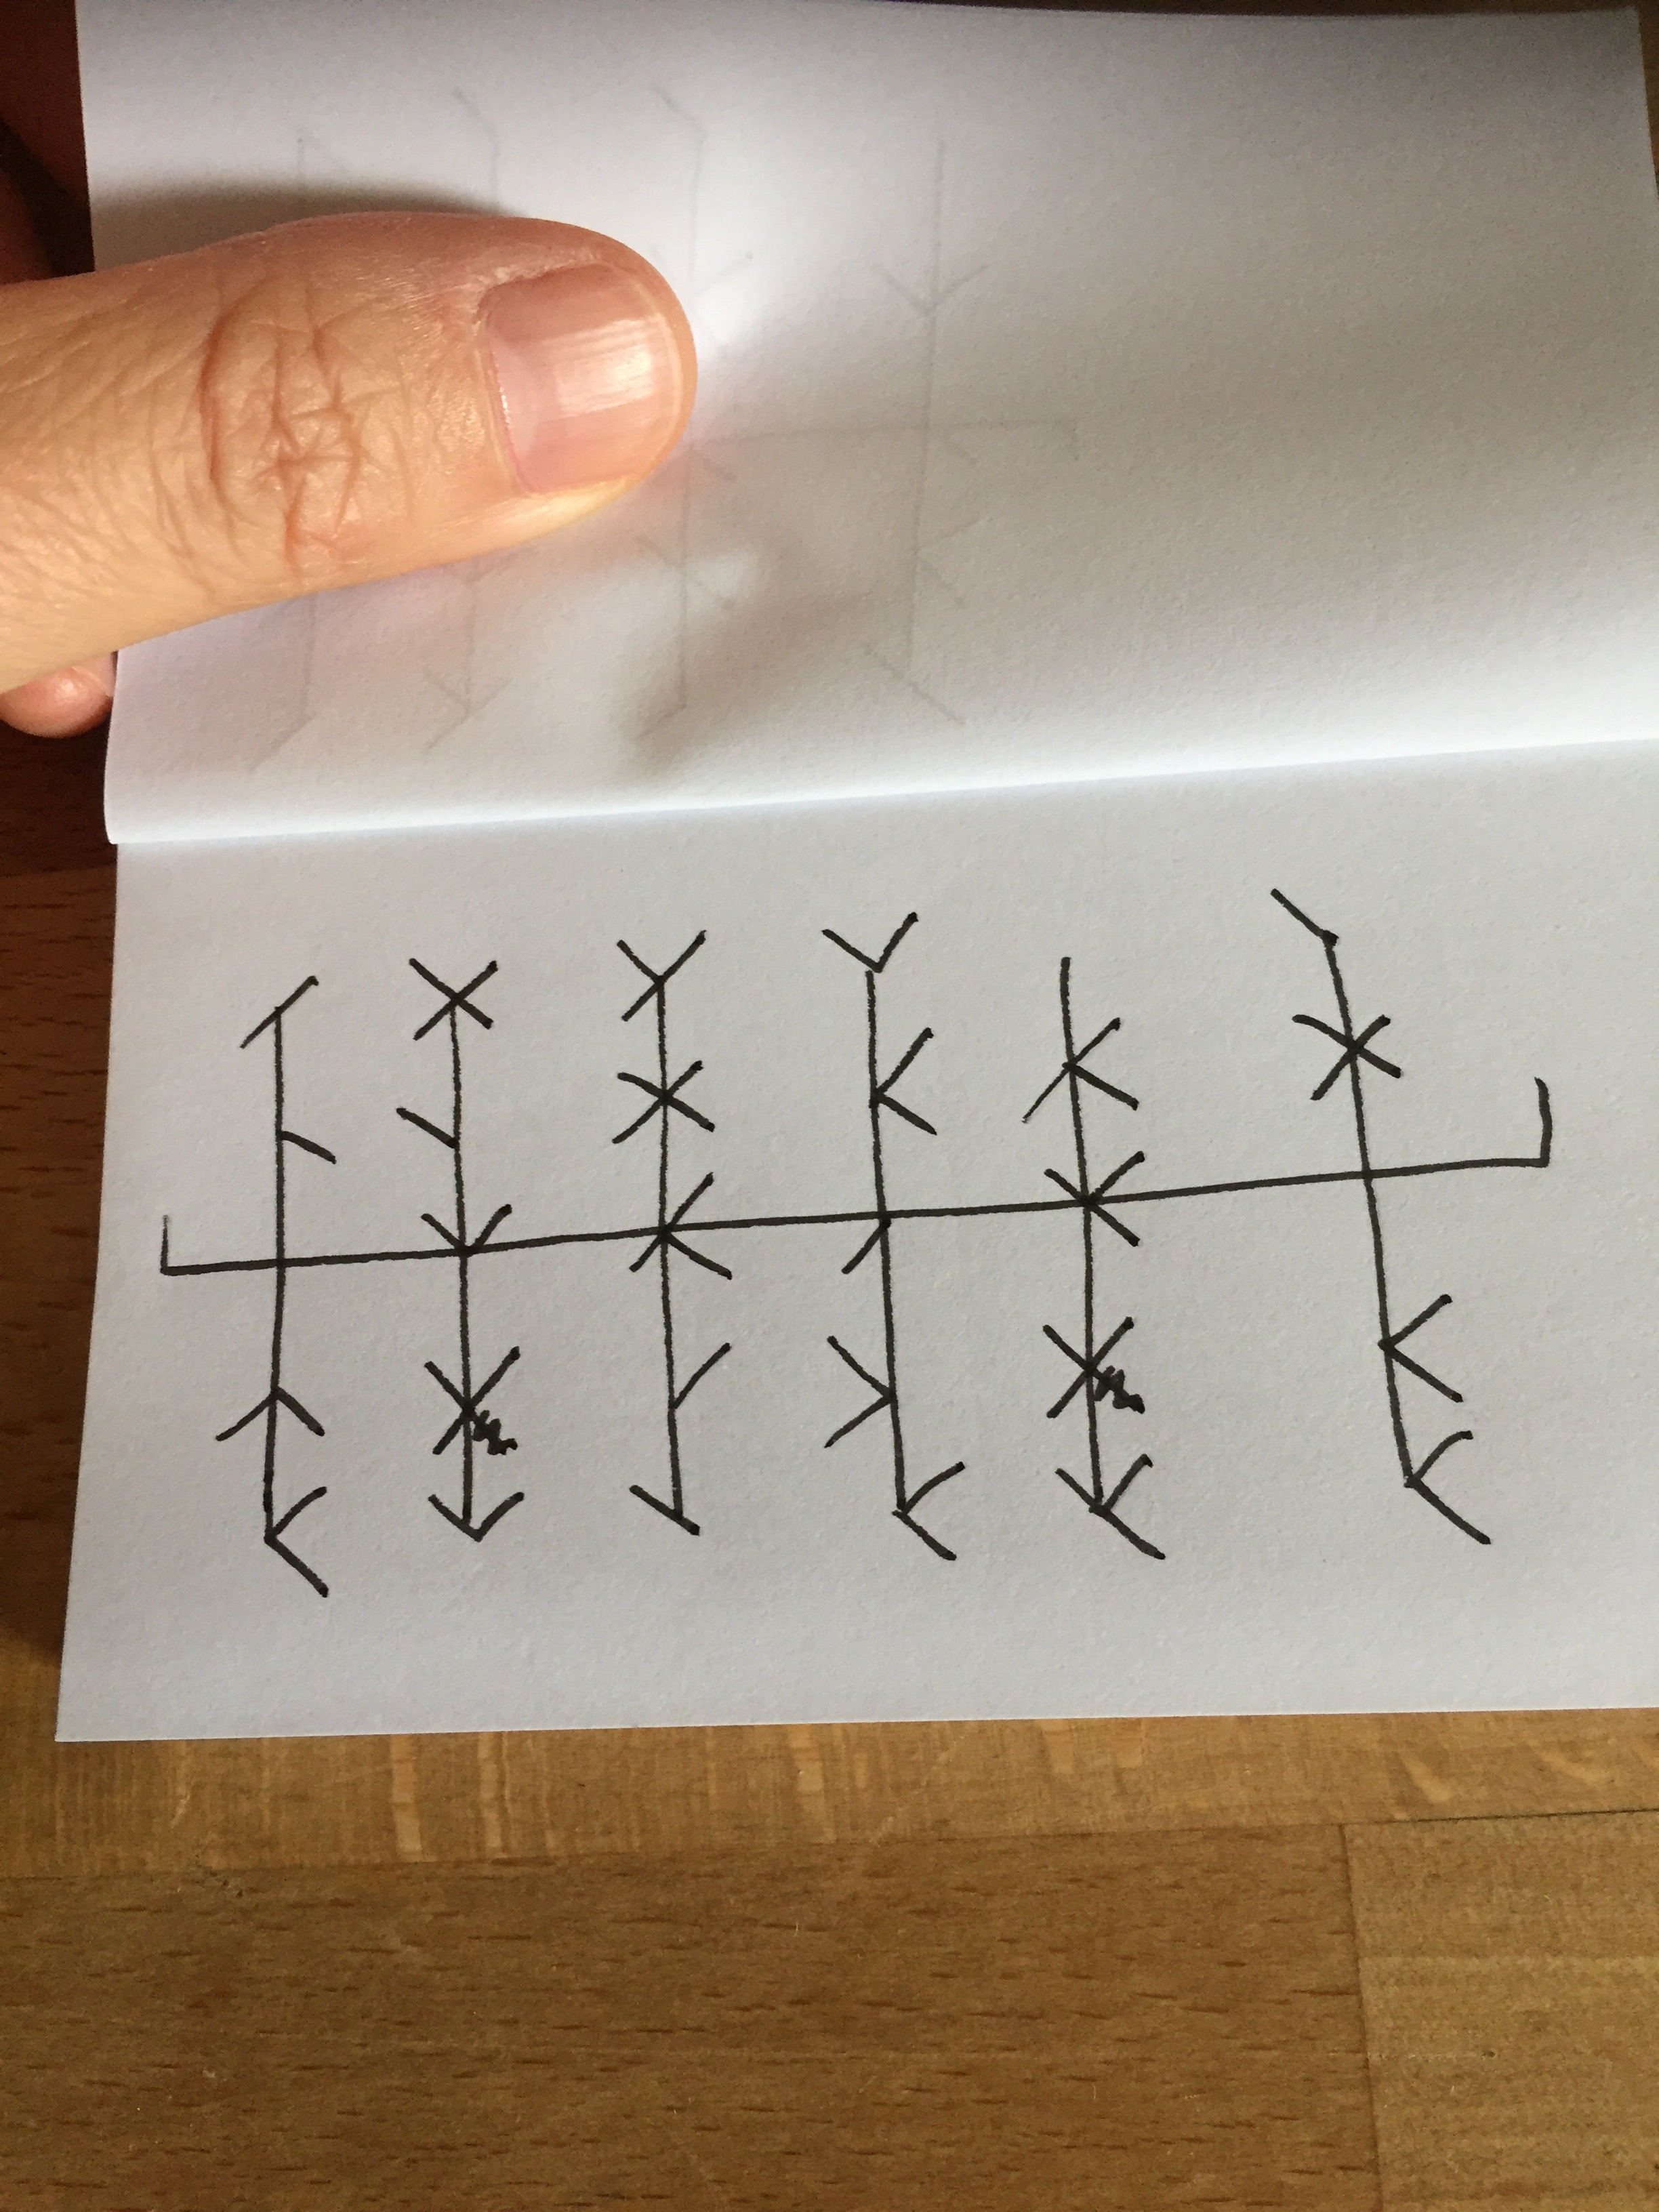Bar: (1269, 890, 1492, 1545), (819, 913, 967, 1559), (1021, 956, 1164, 1557), (394, 956, 532, 1547), (216, 972, 338, 1595), (613, 932, 737, 1540)
Barcode: (159, 883, 1554, 1594)
End: (1371, 1078, 1553, 1179)
Start: (159, 1212, 268, 1280)
